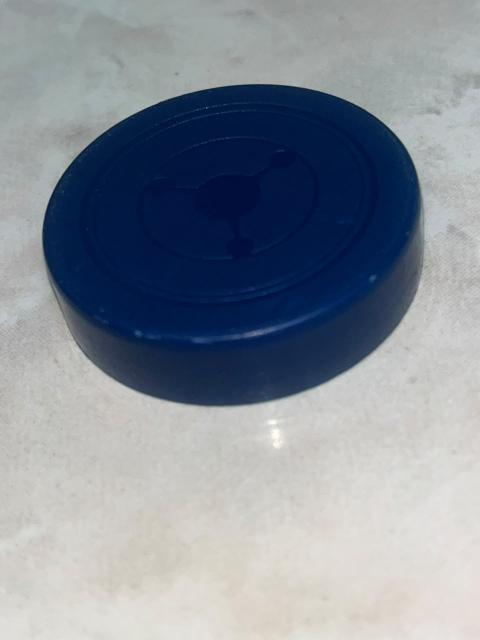HDPE: (12, 45, 470, 443)
